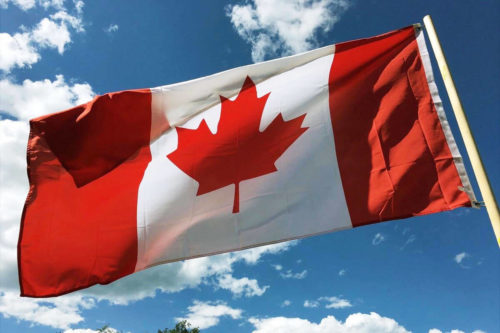Canada flag: (20, 21, 472, 300)
